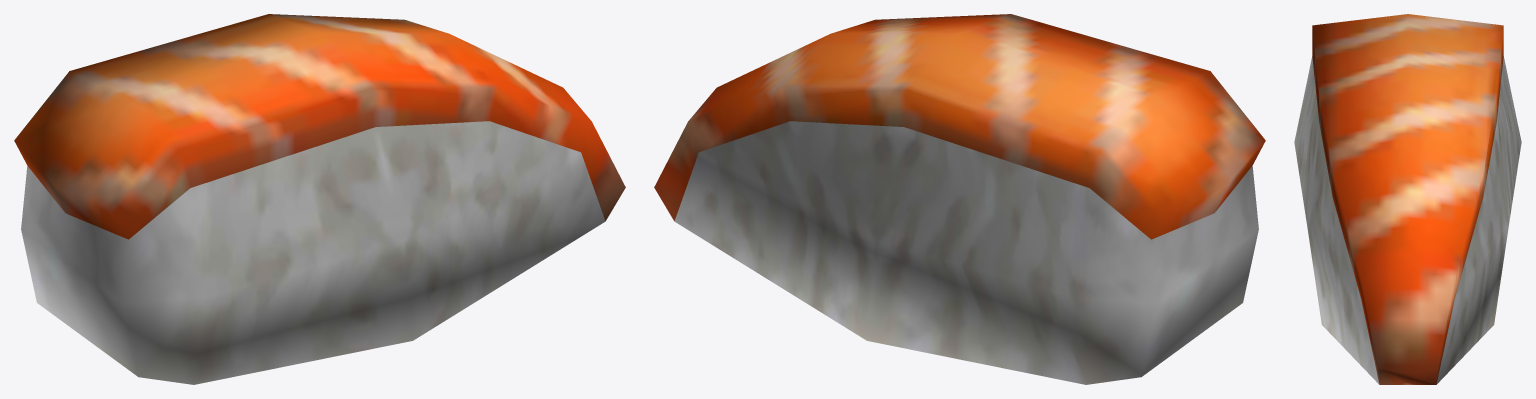
File: peixe.fbx
3 views of the same model, side by side, from view 1: azimuth 30°, elevation 25°; view 2: azimuth 150°, elevation 25°; view 3: azimuth 270°, elevation 25° (orthographic). The views are drawn at different scales.
Parts seen in each view (by area): view 1: Watermelon; view 2: Watermelon; view 3: Watermelon.
Part boxes in pixels (x1,y1,x2,y2): Watermelon: (14, 14, 625, 384); Watermelon: (654, 14, 1265, 384); Watermelon: (1294, 14, 1521, 384).
Size of the model in its own units: 7.05 by 3.39 by 3.02.
